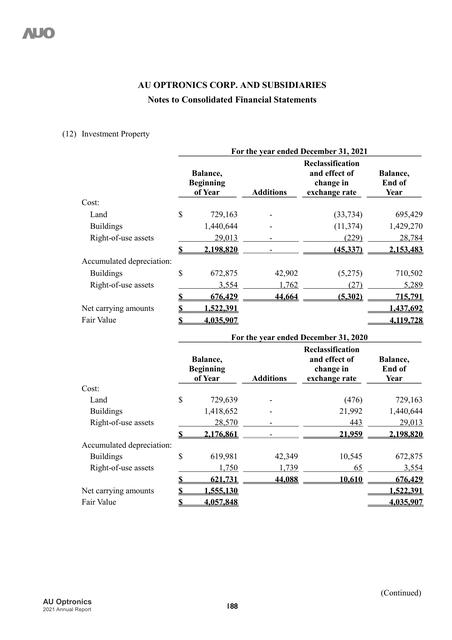box: (78, 148, 426, 512)
